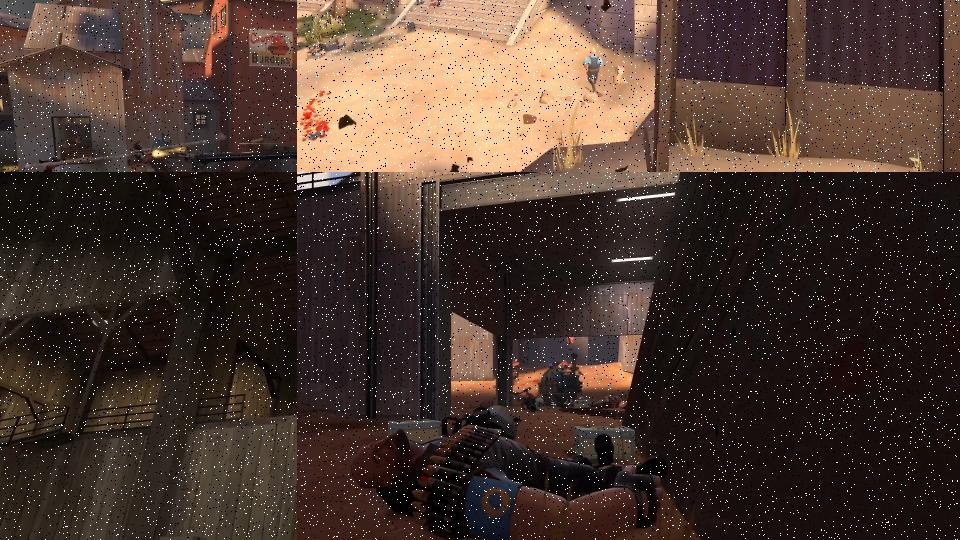Enemy: (346, 423, 669, 540), (583, 46, 605, 95), (306, 39, 346, 58), (38, 154, 69, 172), (132, 141, 154, 164)
